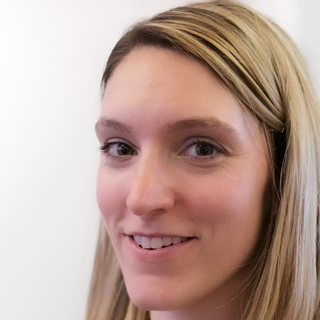eye: (167, 134, 240, 168), (98, 135, 143, 165)
